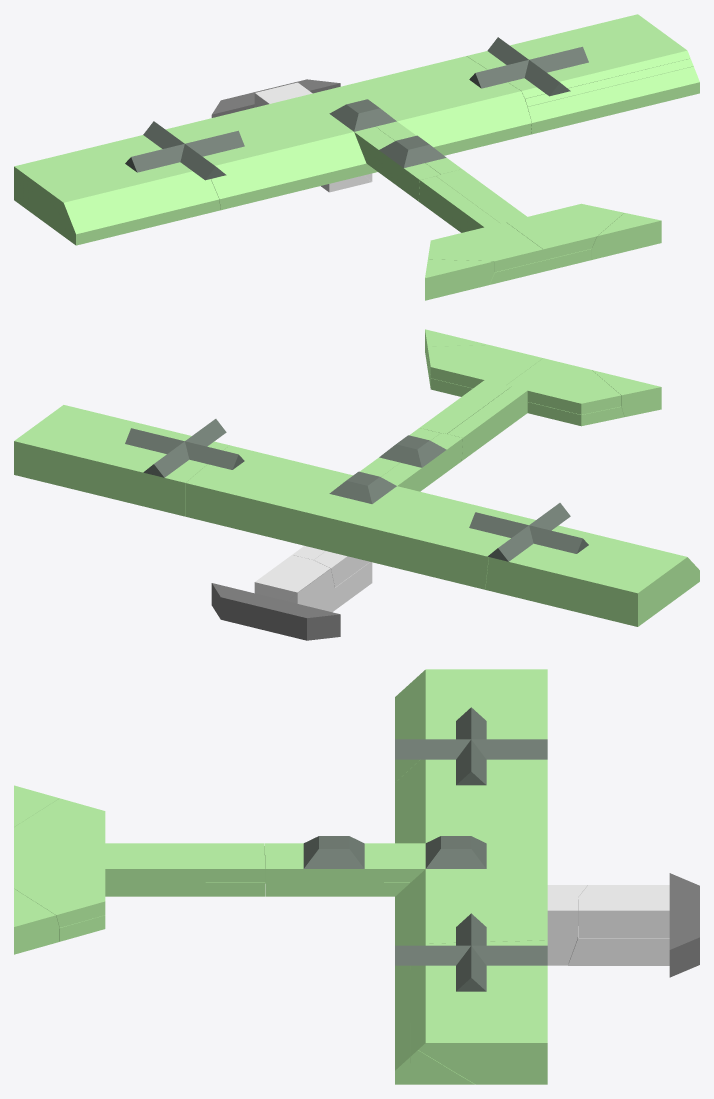
The model's file is Junkers CL.I MintGreen Debris.dae.
3 renders of one model, top to bottom at view 1: azimuth 30°, elevation 25°; view 2: azimuth 150°, elevation 25°; view 3: azimuth 270°, elevation 25°, orthographic. The views are drawn at different scales.
Visible parts, largest first — view 1: Cube.008_cell.001, Cube.008_cell, Cube.008_cell.003, Cube.008_cell.002, Cube.011_cell, Cube.011_cell.005, Cube.001, Cube.002, Cube.010_cell.005, Cube.011_cell.002, Cube.010_cell, Cube.011_cell.001 (+9 smaller); view 2: Cube.008_cell.001, Cube.008_cell, Cube.008_cell.003, Cube.000, Cube.011_cell.005, Cube.011_cell, Cube.001, Cube.002, Cube.010_cell.005, Cube.010_cell, Cube.009_cell.002, Cube.010_cell.001 (+10 smaller); view 3: Cube.008_cell.001, Cube.008_cell.003, Cube.008_cell, Cube.011_cell, Cube.010_cell.001, Cube.009_cell.002, Cube.002, Cube.001, Cube.011_cell.005, Cube.010_cell.002, Cube.000, Cube.009_cell.004 (+12 smaller).
Part boxes in pixels (left/top/right/bottom): Cube.008_cell.001: left=165, top=56, right=531, bottom=210; Cube.008_cell: left=14, top=135, right=220, bottom=245; Cube.008_cell.003: left=466, top=14, right=690, bottom=98; Cube.008_cell.002: left=527, top=66, right=699, bottom=134; Cube.011_cell: left=506, top=203, right=623, bottom=260; Cube.011_cell.005: left=428, top=222, right=543, bottom=272; Cube.001: left=469, top=37, right=588, bottom=96; Cube.002: left=125, top=121, right=244, bottom=180; Cube.010_cell.005: left=418, top=176, right=499, bottom=232; Cube.011_cell.002: left=425, top=259, right=494, bottom=300; Cube.010_cell: left=354, top=126, right=440, bottom=201; Cube.011_cell.001: left=592, top=213, right=661, bottom=259; Cube.008_cell.001: left=185, top=445, right=535, bottom=589; Cube.008_cell: left=485, top=525, right=699, bottom=626; Cube.008_cell.003: left=14, top=405, right=229, bottom=516; Cube.000: left=211, top=583, right=340, bottom=640; Cube.011_cell.005: left=506, top=358, right=621, bottom=414; Cube.011_cell: left=427, top=345, right=542, bottom=388; Cube.001: left=125, top=419, right=244, bottom=477; Cube.002: left=469, top=503, right=588, bottom=561; Cube.010_cell.005: left=447, top=386, right=527, bottom=460; Cube.010_cell: left=381, top=433, right=462, bottom=491; Cube.009_cell.002: left=254, top=555, right=330, bottom=600; Cube.010_cell.001: left=419, top=380, right=510, bottom=433; Cube.008_cell.001: left=395, top=759, right=547, bottom=969; Cube.008_cell.003: left=418, top=940, right=547, bottom=1084; Cube.008_cell: left=395, top=669, right=547, bottom=782; Cube.011_cell: left=14, top=856, right=105, bottom=927; Cube.010_cell.001: left=105, top=853, right=265, bottom=882; Cube.009_cell.002: left=578, top=885, right=669, bottom=937; Cube.002: left=395, top=707, right=547, bottom=785; Cube.001: left=395, top=913, right=547, bottom=991; Cube.011_cell.005: left=14, top=798, right=105, bottom=856; Cube.010_cell.002: left=265, top=856, right=425, bottom=882; Cube.000: left=669, top=873, right=699, bottom=977; Cube.009_cell.004: left=568, top=926, right=669, bottom=965.
Size of the model in its own units: 5.8 by 4.5 by 0.8.
